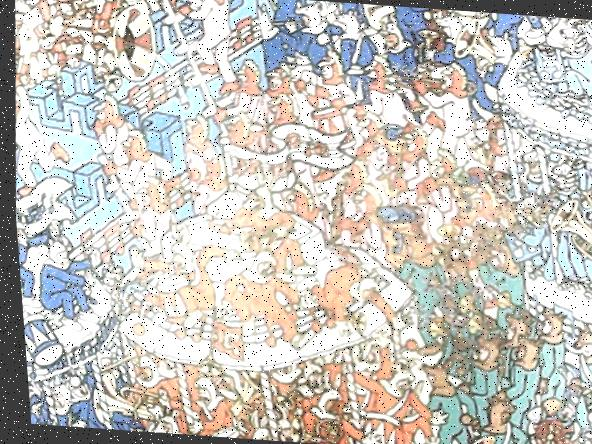waldo: (480, 165, 512, 202)
